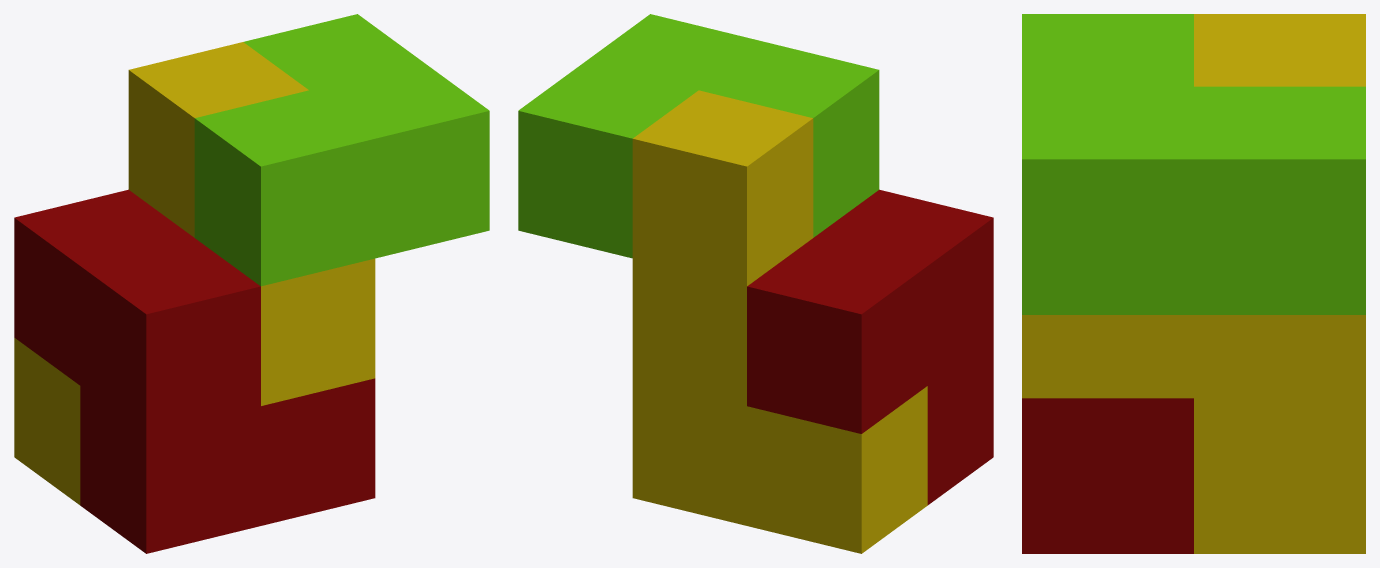
3 views of the same model, side by side, from view 1: azimuth 30°, elevation 25°; view 2: azimuth 150°, elevation 25°; view 3: azimuth 270°, elevation 25° (orthographic). The views are drawn at different scales.
Visible parts, largest first — view 1: mergedBlocks(Clone); view 2: mergedBlocks(Clone); view 3: mergedBlocks(Clone).
Boxes of the visible parts, box(x1,y1,x2,y2) form: mergedBlocks(Clone): box(14, 14, 489, 553); mergedBlocks(Clone): box(518, 14, 993, 553); mergedBlocks(Clone): box(1022, 14, 1365, 553).
Bounding box in the file's own units: 3 × 3 × 2.
3 materials, 3 textured.
